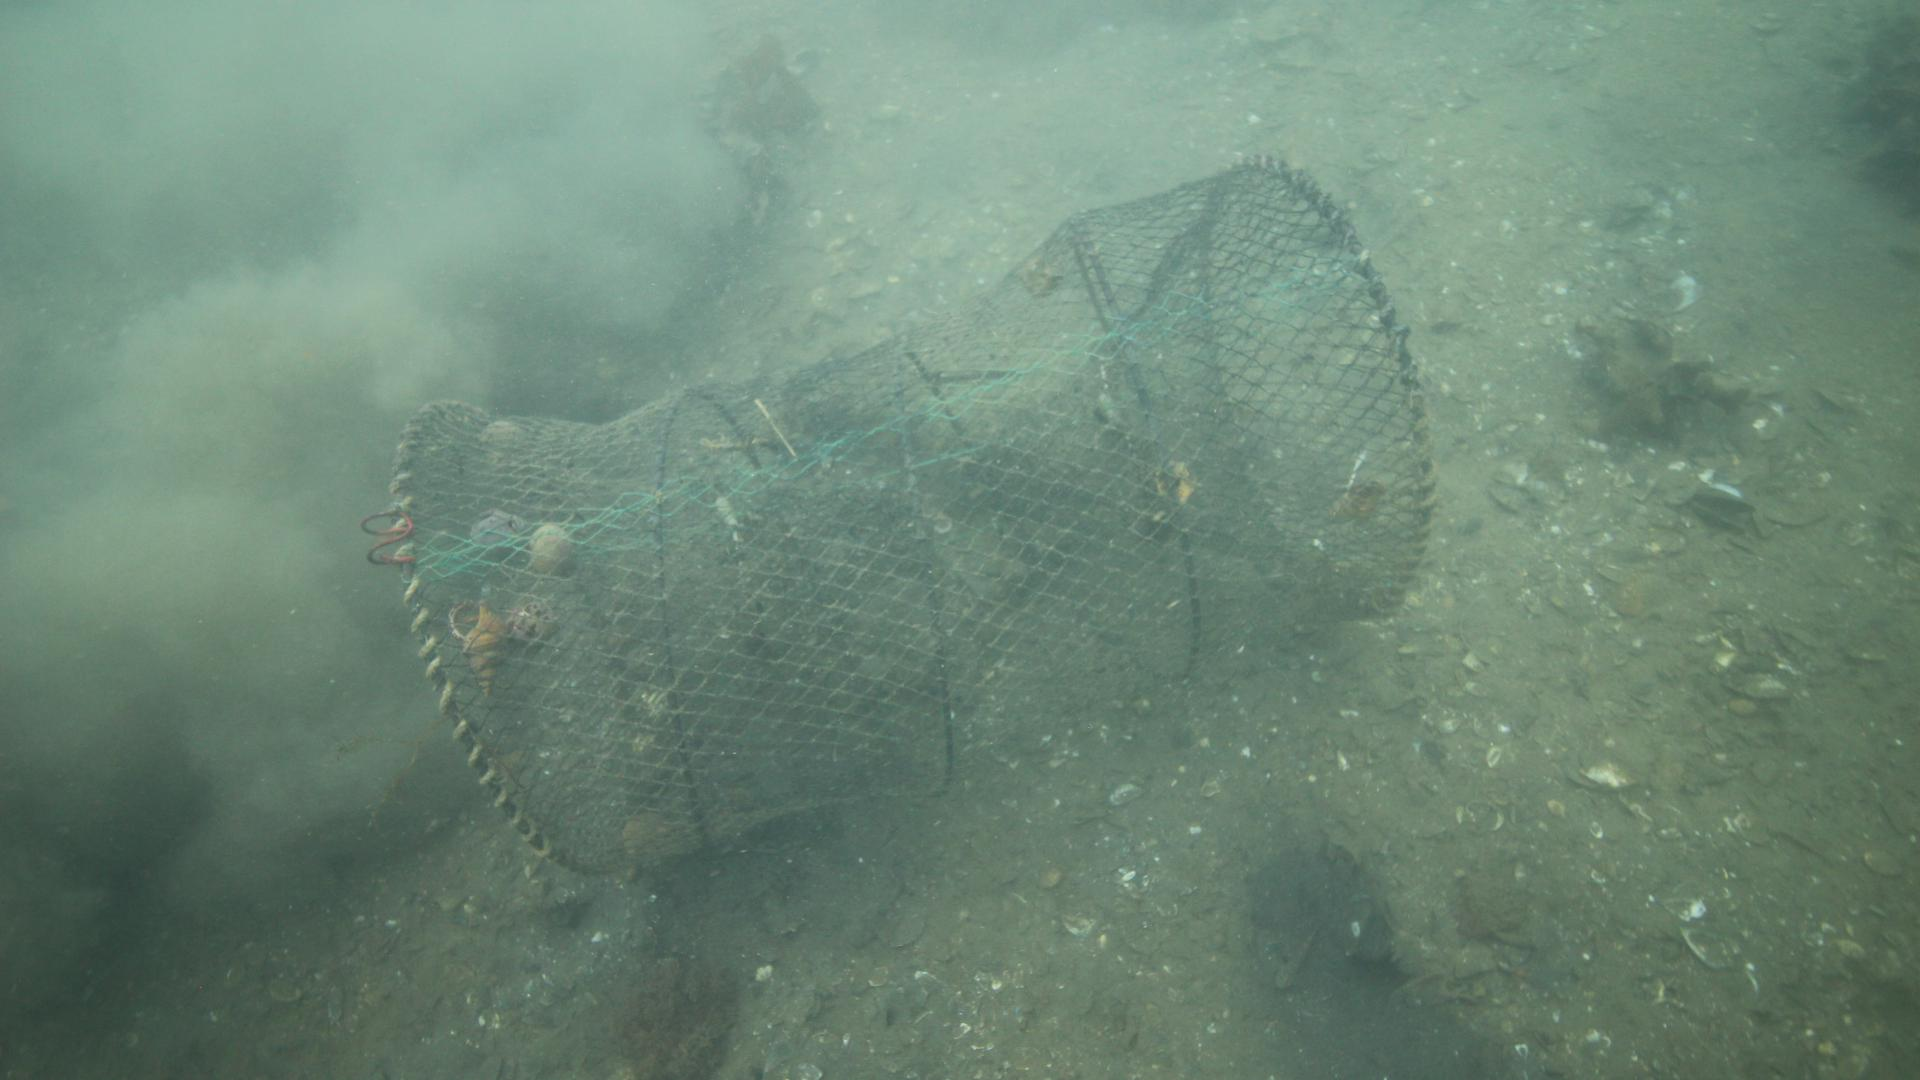spring fish trap: (385, 156, 1431, 884)
